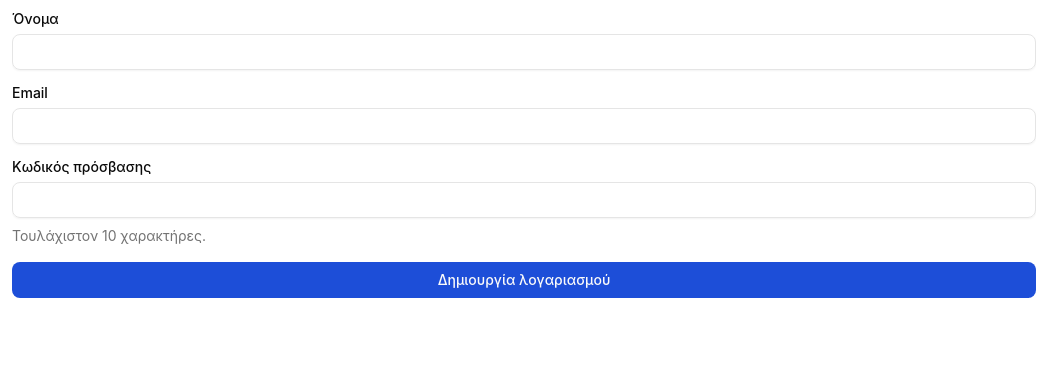
SignUpForm › tells people when the email is already registered
Type "Maria" into the field labelled "Όνομα".
click(524, 52); type("Maria")  # box [12,34,1036,70]
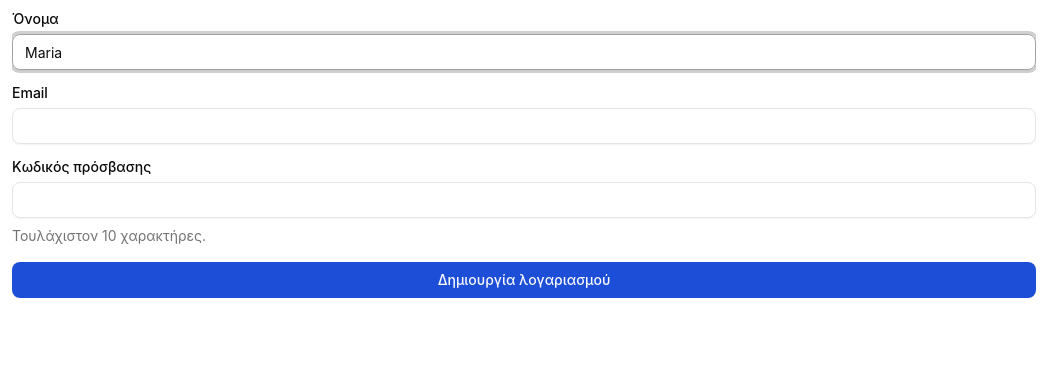
Type "maria@example.gr" into the field labelled "Email".
click(524, 126); type("maria@example.gr")  # box [12,108,1036,144]
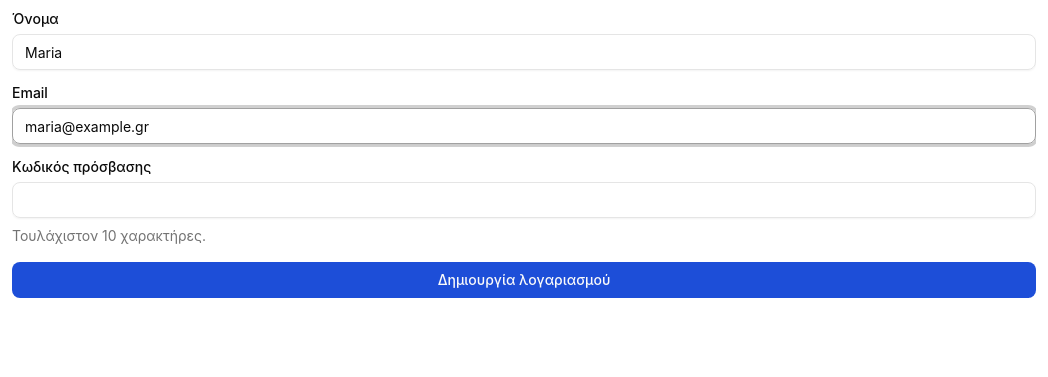
Type "correct horse battery" into the password field labelled "Κωδικός πρόσβασης".
click(524, 200); type("correct horse battery")  # box [12,182,1036,218]
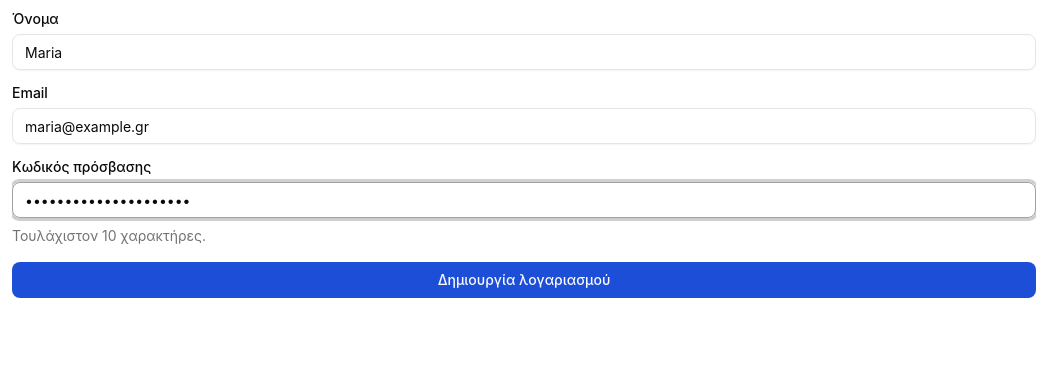
Click the button.
click(524, 280)  # box [12,262,1036,298]
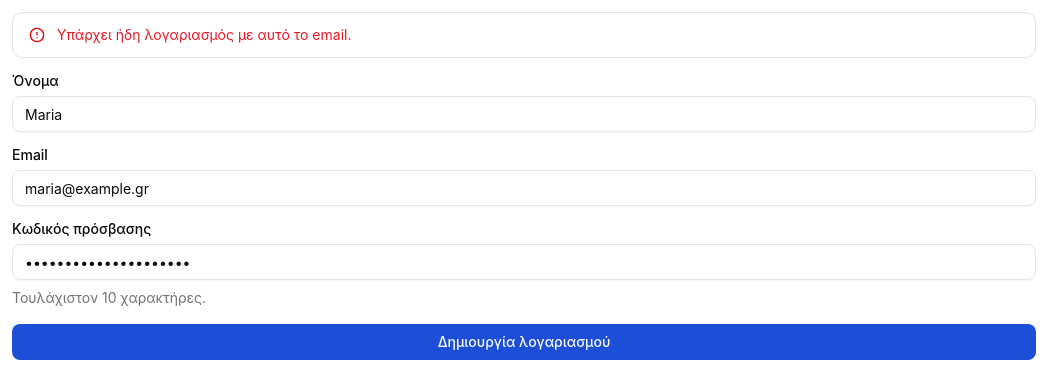
expect the message reads "Υπάρχει ήδη λογαριασμός με αυτό το email.": met, box [57,26,352,43]
